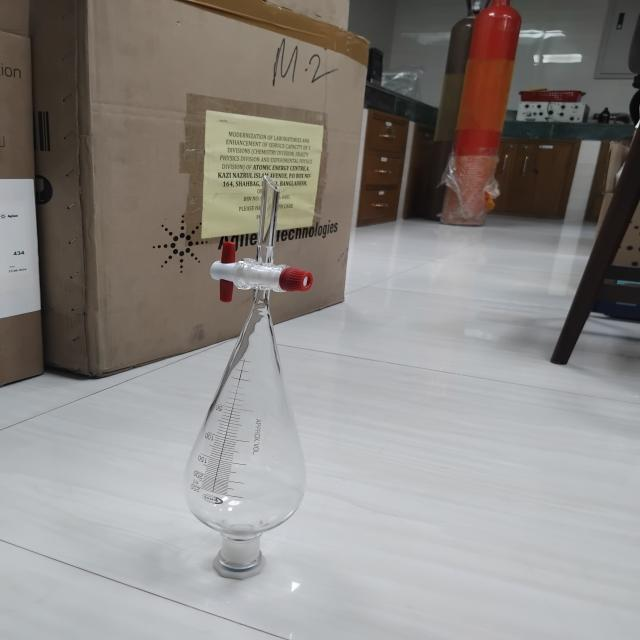Separating_Funnel: (169, 160, 342, 597)
